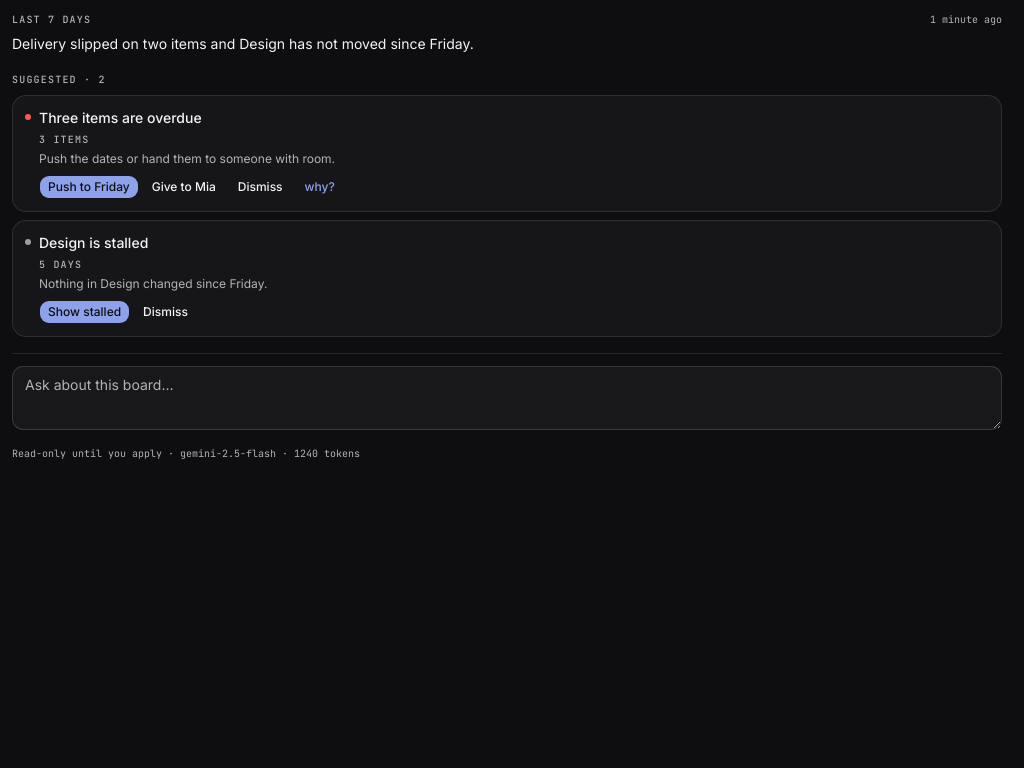
Test case: IntelligenceTab — the suggestions › counts them, and gives each one its evidence and its actions
This screenshot has width=1024, height=768.
Expected: the text "Suggested · 2" is shown, [12,73,106,86]
Expected: the text "Three items are overdue" is shown, [39,109,202,126]
Click the button "why?".
click(320, 187)  # box [296,175,344,199]
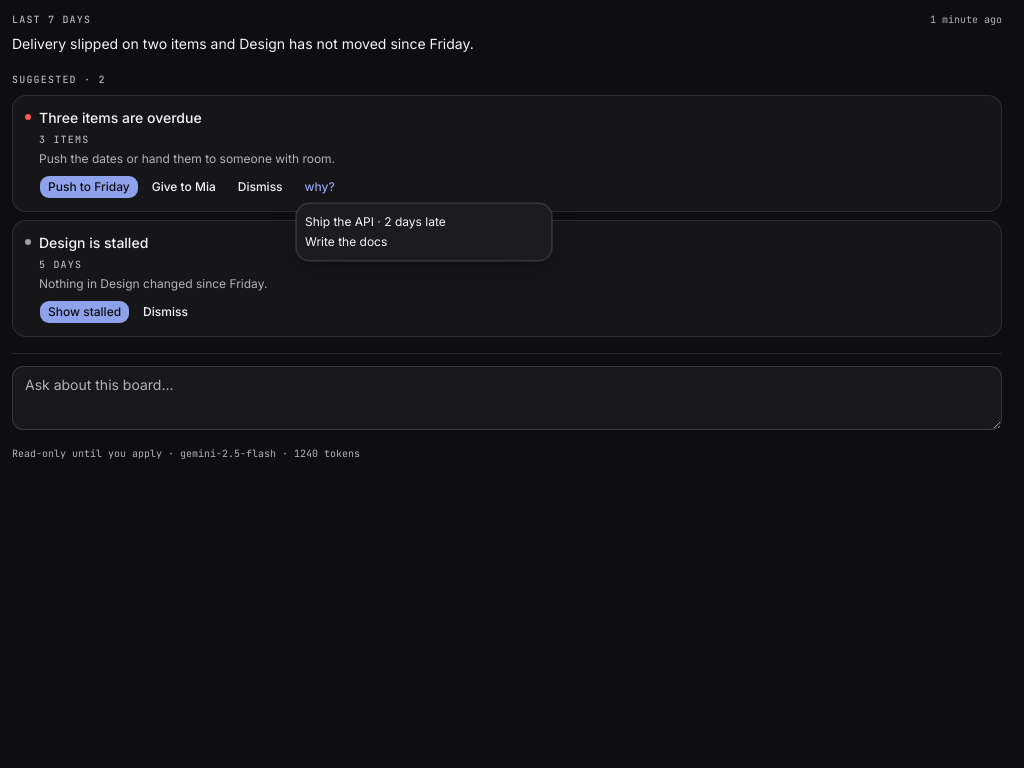
Result: the list item "Ship the API · 2 days late" is shown at [305,214,446,229]
Result: the list item "Write the docs" is shown at [305,234,387,249]
